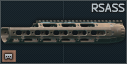Remington R11 RSASS handguard: (0, 0, 127, 64)
